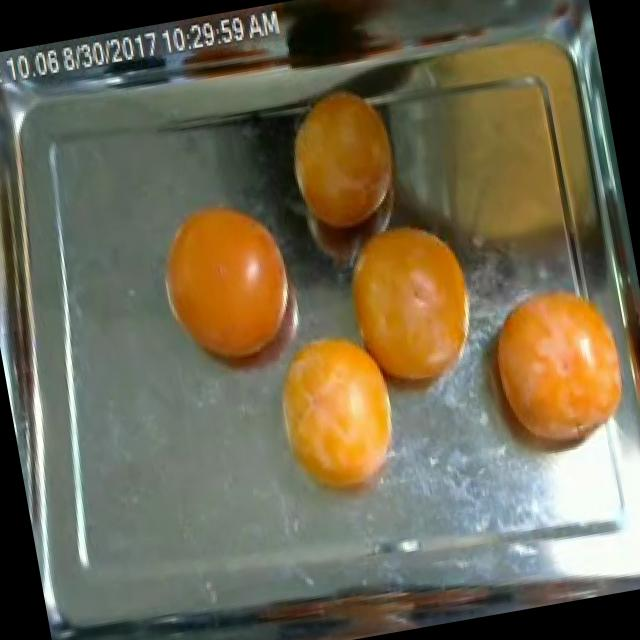Fruit: (455, 254, 640, 491), (248, 302, 428, 540), (317, 188, 494, 422), (139, 178, 318, 392), (266, 71, 414, 254)
